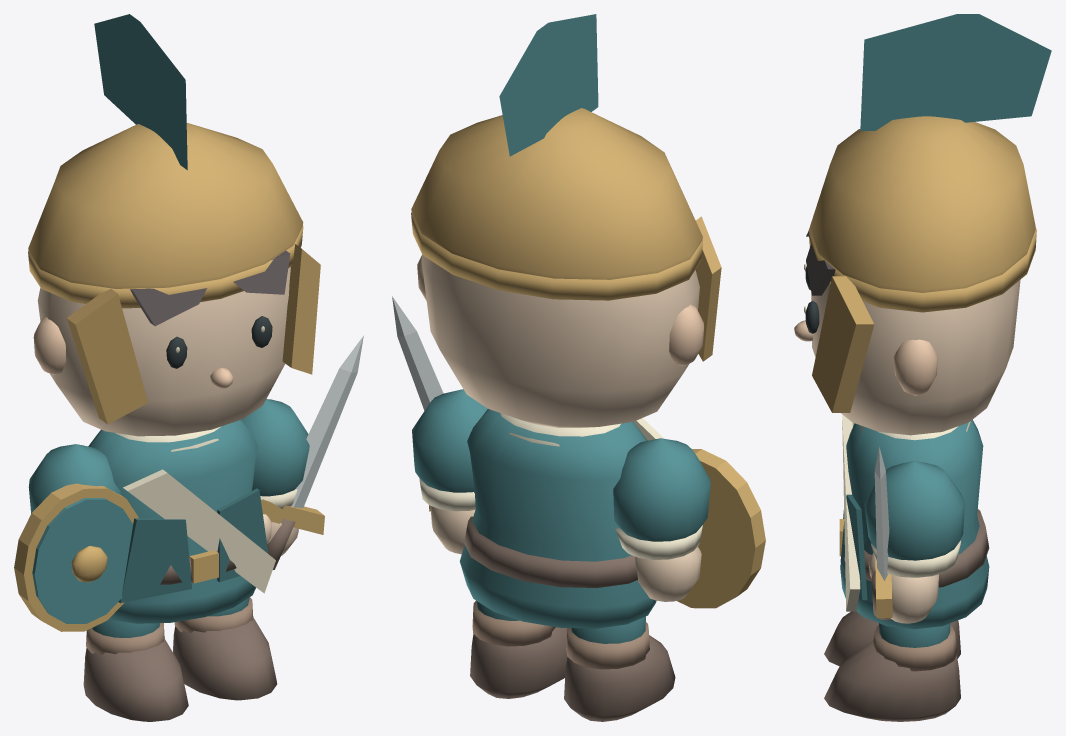
The model's file is warrior.glb.
The picture shows the model from 3 angles, left to right: view 1: azimuth 30°, elevation 25°; view 2: azimuth 150°, elevation 25°; view 3: azimuth 270°, elevation 25°; orthographic projection. The views are drawn at different scales.
Parts seen in each view (by area): view 1: Regional helmet, Soft cheek head, Short folded tunic, Regional shield face, Greek crest, Round leather boot, Corinthian cheek, Round leather boot.001, Cream shoulder sash, Coat fold, Puff sleeve.001, Shield gold rim (+16 smaller); view 2: Regional helmet, Soft cheek head, Short folded tunic, Greek crest, Puff sleeve, Shield gold rim, Helmet brow band, Round leather boot, Puff sleeve.001, Round leather boot.001, Broad leather belt, Little mitten (+10 smaller); view 3: Regional helmet, Greek crest, Soft cheek head, Short folded tunic, Round leather boot.001, Puff sleeve.001, Corinthian cheek.001, Helmet brow band, Ear.001, Little mitten.001, Boot turn cuff.001, Round leather boot (+8 smaller).
Boxes of the visible parts, left/top/right/bottom form: Regional helmet: left=28, top=123, right=303, bottom=288; Soft cheek head: left=37, top=267, right=290, bottom=436; Short folded tunic: left=88, top=420, right=258, bottom=623; Regional shield face: left=32, top=498, right=133, bottom=623; Greek crest: left=94, top=14, right=187, bottom=170; Round leather boot: left=83, top=638, right=188, bottom=721; Corinthian cheek: left=66, top=289, right=148, bottom=424; Round leather boot.001: left=173, top=617, right=277, bottom=700; Cream shoulder sash: left=123, top=469, right=275, bottom=593; Coat fold: left=118, top=518, right=192, bottom=603; Puff sleeve.001: left=241, top=399, right=309, bottom=496; Shield gold rim: left=14, top=483, right=138, bottom=631; Regional helmet: left=411, top=108, right=702, bottom=279; Soft cheek head: left=421, top=255, right=699, bottom=427; Short folded tunic: left=459, top=409, right=656, bottom=628; Greek crest: left=499, top=14, right=598, bottom=156; Puff sleeve: left=613, top=438, right=710, bottom=541; Shield gold rim: left=677, top=449, right=765, bottom=608; Helmet brow band: left=411, top=212, right=703, bottom=300; Round leather boot: left=564, top=635, right=675, bottom=721; Puff sleeve.001: left=412, top=389, right=487, bottom=492; Round leather boot.001: left=470, top=627, right=567, bottom=698; Broad leather belt: left=464, top=516, right=637, bottom=587; Little mitten: left=635, top=546, right=701, bottom=601; Regional helmet: left=810, top=116, right=1035, bottom=292; Greek crest: left=860, top=14, right=1051, bottom=130; Soft cheek head: left=811, top=280, right=1020, bottom=435; Short folded tunic: left=840, top=419, right=989, bottom=629; Round leather boot.001: left=824, top=640, right=960, bottom=721; Puff sleeve.001: left=864, top=461, right=964, bottom=560; Corinthian cheek.001: left=812, top=276, right=874, bottom=412; Helmet brow band: left=808, top=227, right=1036, bottom=312; Ear.001: left=893, top=339, right=937, bottom=395; Little mitten.001: left=890, top=574, right=938, bottom=623; Boot turn cuff.001: left=873, top=625, right=957, bottom=671; Round leather boot: left=824, top=611, right=960, bottom=666.
Bounding box in the file's own units: 1.02 × 1.83 × 0.639.
